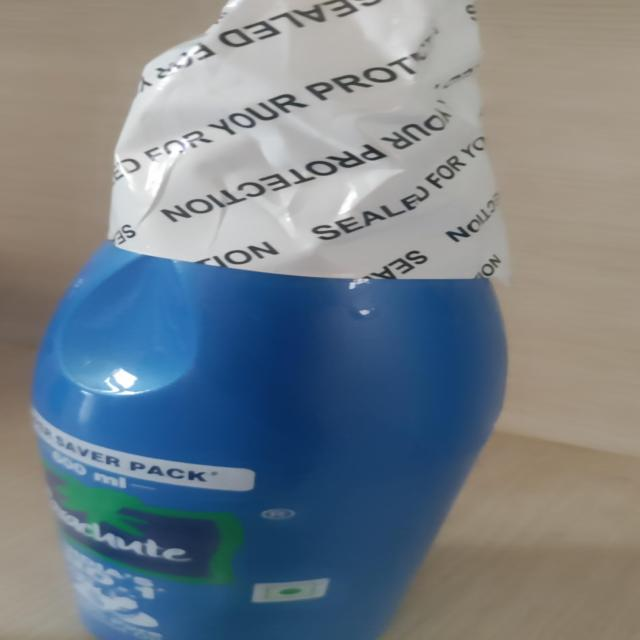parachute_oil: (38, 2, 554, 640)
